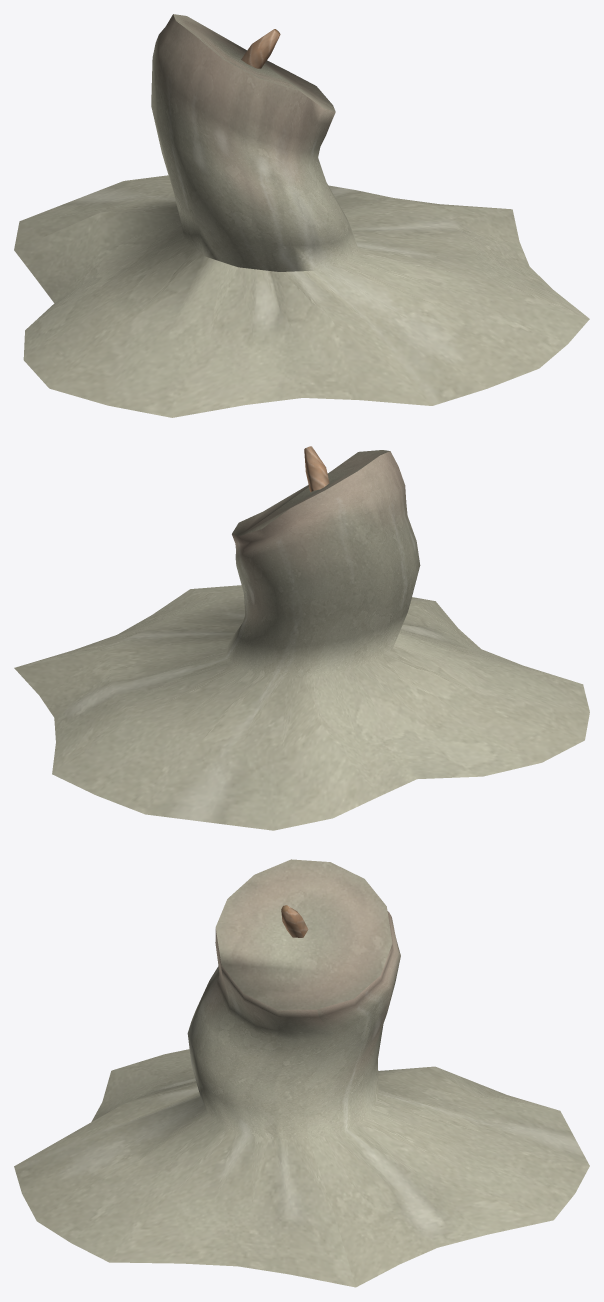
The model's file is Candle Melting 02.fbx.
3 views of the same model, one above another, from view 1: azimuth 30°, elevation 25°; view 2: azimuth 150°, elevation 25°; view 3: azimuth 270°, elevation 25° (orthographic). The views are drawn at different scales.
Parts seen in each view (by area): view 1: Cube; view 2: Cube; view 3: Cube.
Boxes of the visible parts, bbox=[...] form: Cube: bbox=[14, 14, 589, 417]; Cube: bbox=[14, 446, 589, 830]; Cube: bbox=[14, 859, 589, 1287].
Bounding box in the file's own units: 18.99 × 9.71 × 18.97.
